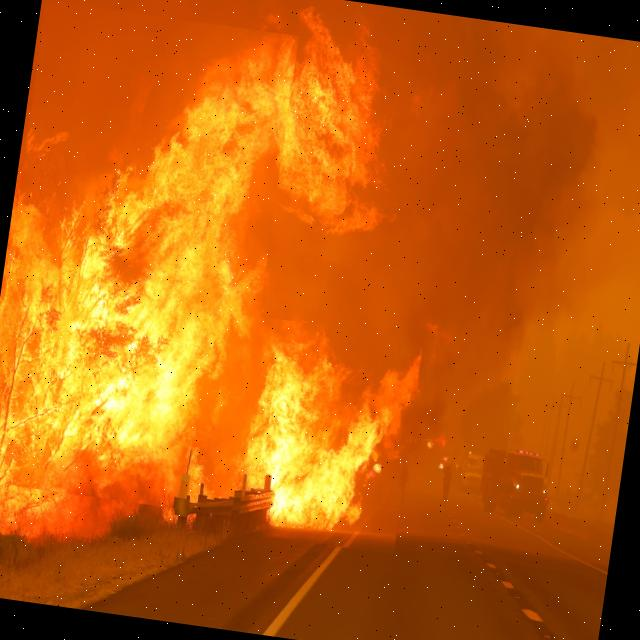fire: (0, 0, 299, 516), (236, 318, 424, 554)
